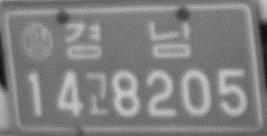0: (179, 69, 212, 115)
1: (25, 71, 47, 120)
2: (145, 68, 177, 118)
4: (54, 70, 85, 119)
5: (215, 66, 249, 118)
8: (112, 68, 141, 118)
경남_D: (64, 18, 193, 62)
고: (84, 70, 111, 116)
영: (21, 22, 54, 61)
